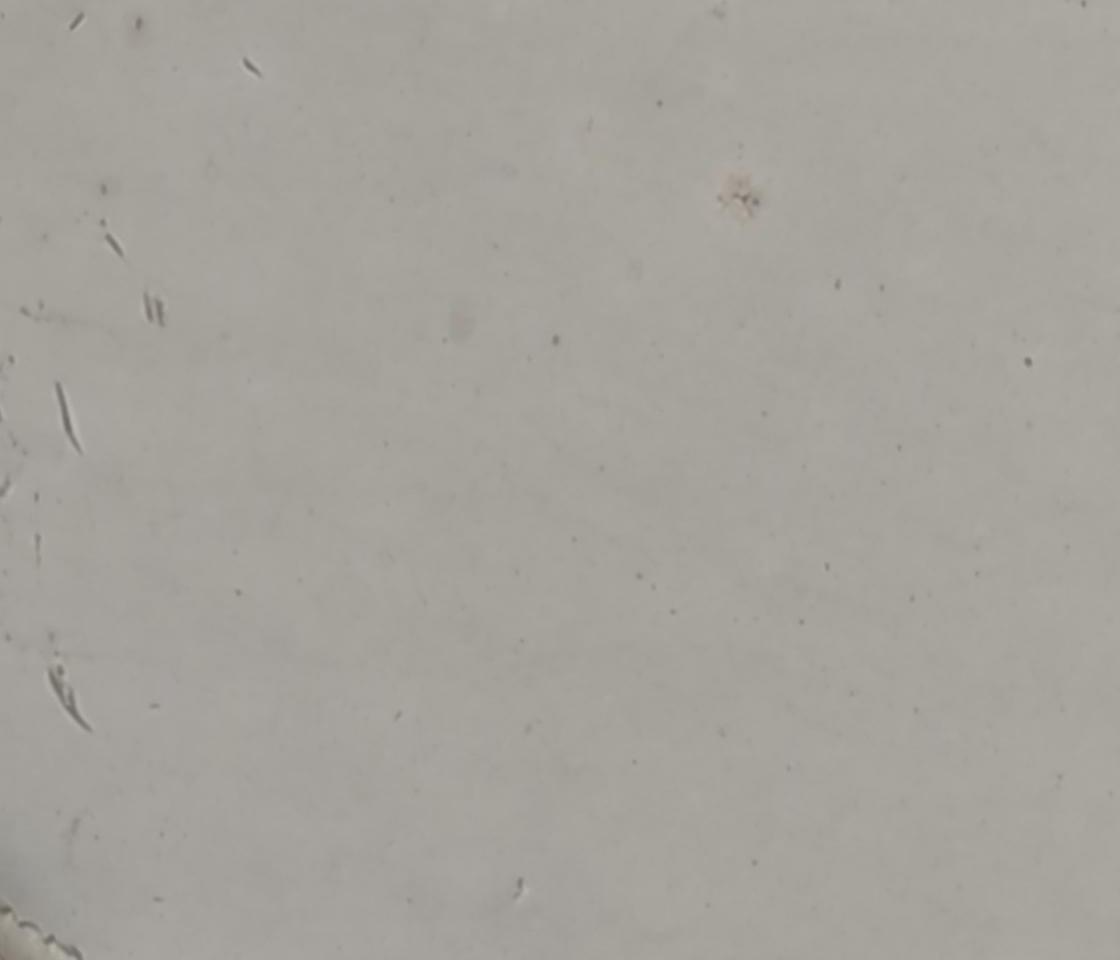scratch: (41, 662, 107, 738), (46, 375, 85, 461), (100, 230, 135, 265), (237, 46, 264, 80), (64, 9, 88, 37)
